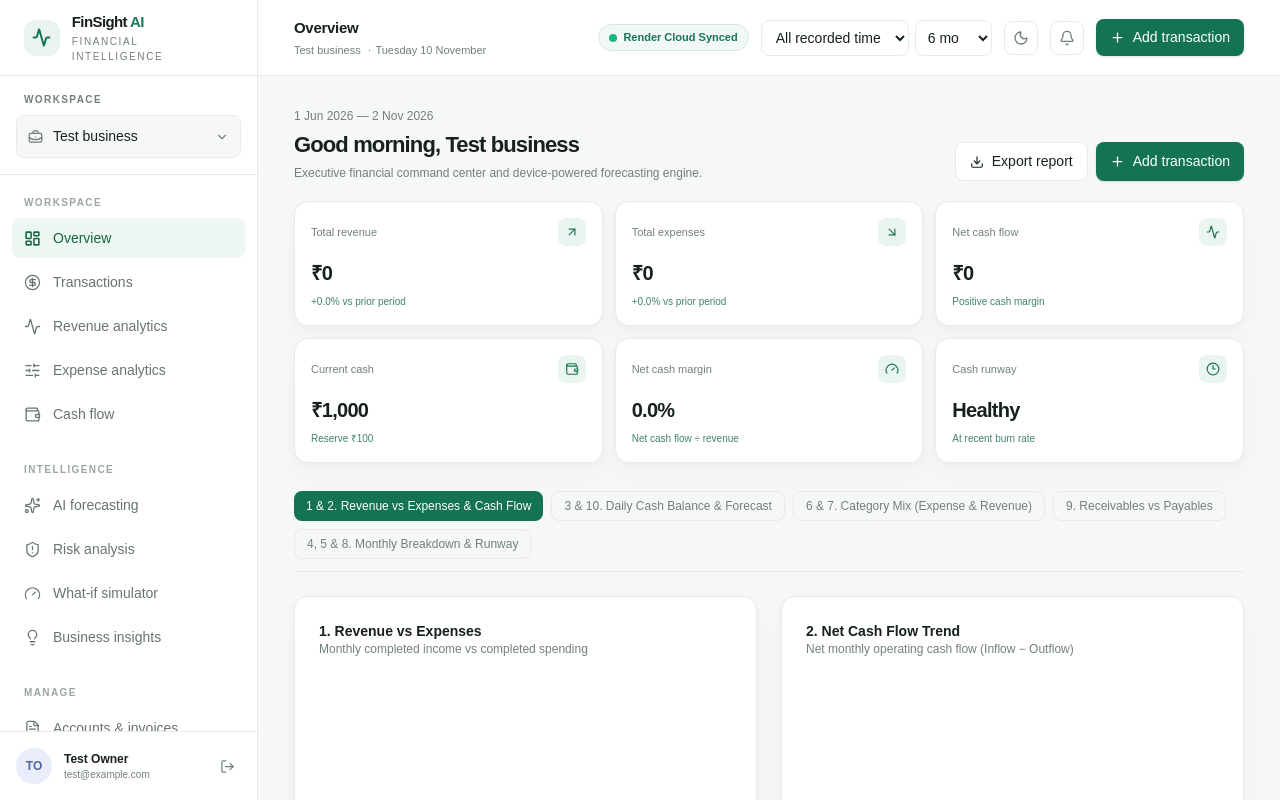
Test: FinSight sign in › loads the authenticated workspace and opens accounts and invoices
Click the button "Accounts & invoices": (128, 728) [12,708,245,748]
(page scrolled)
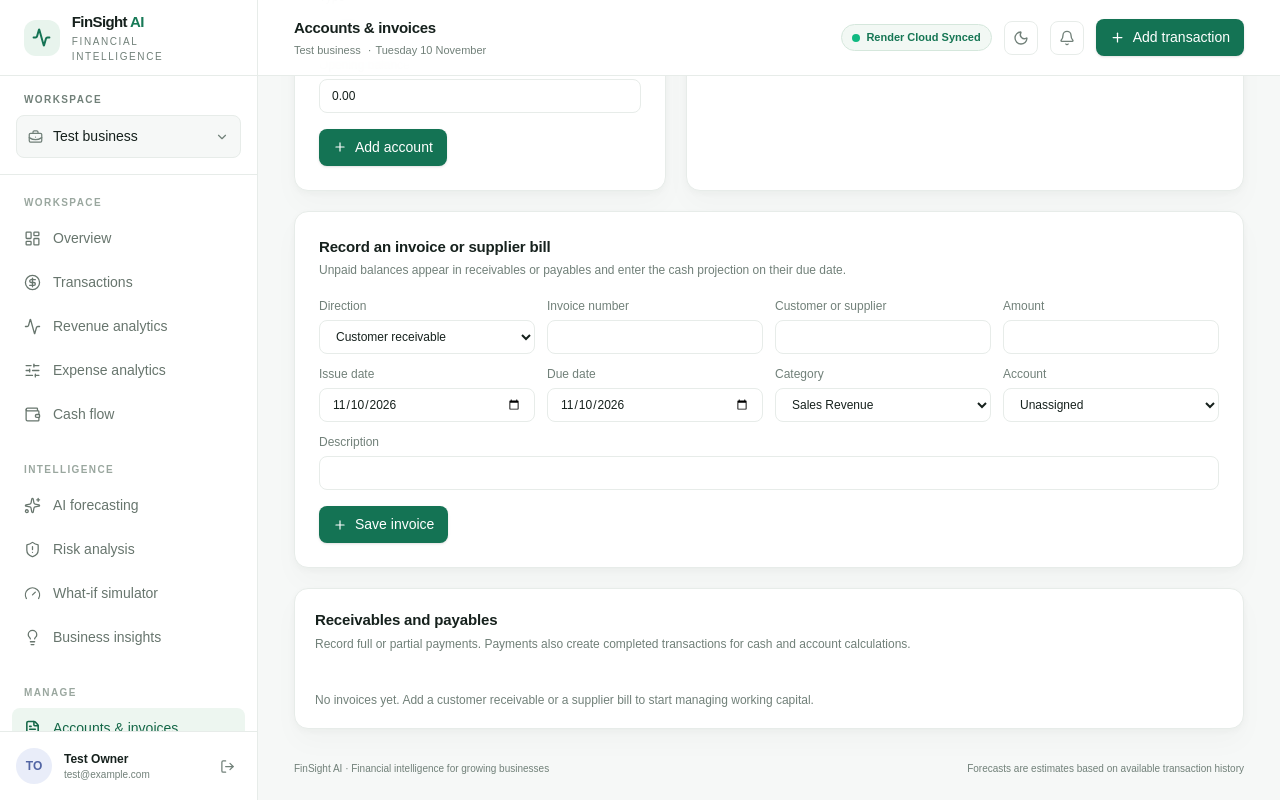
Expected: the text "No invoices yet. Add a customer receivable or a supplier bill to start managing working capital." is shown, [315,693,814,707]
